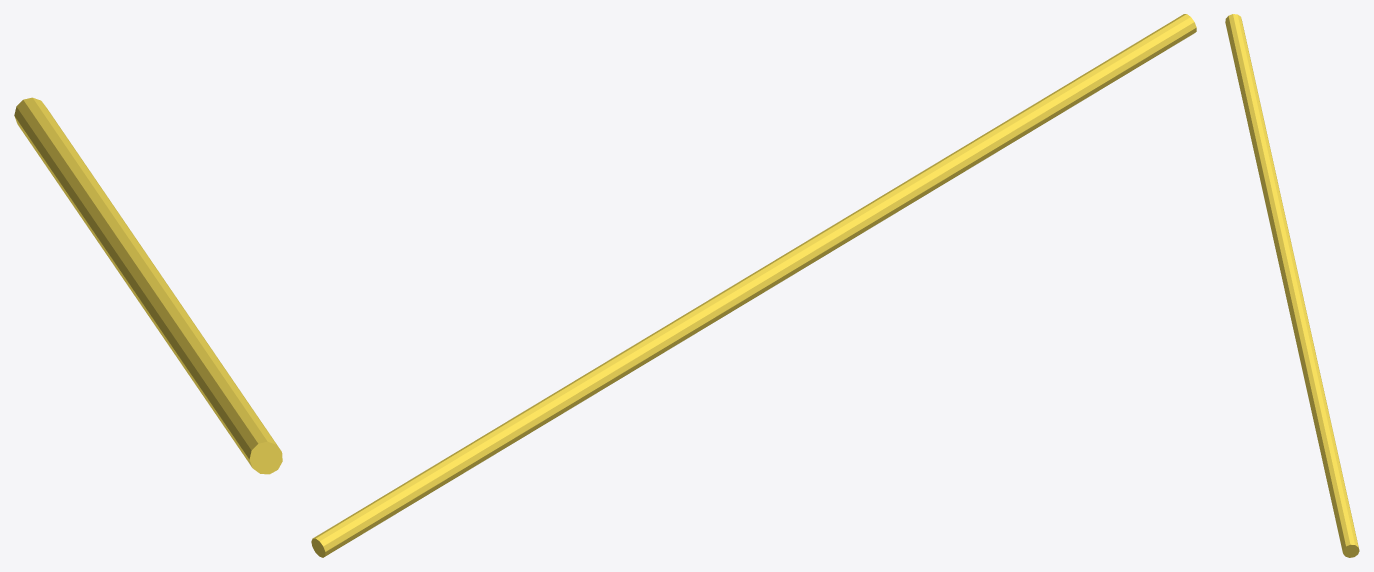
Rendered from tile_320.glb.
3 renders of one model, left to right at view 1: azimuth 90°, elevation 25°; view 2: azimuth 210°, elevation 25°; view 3: azimuth 270°, elevation 25°, orthographic. The views are drawn at different scales.
Bounding box in the file's own units: 12.31 × 3.15 × 1.98.
